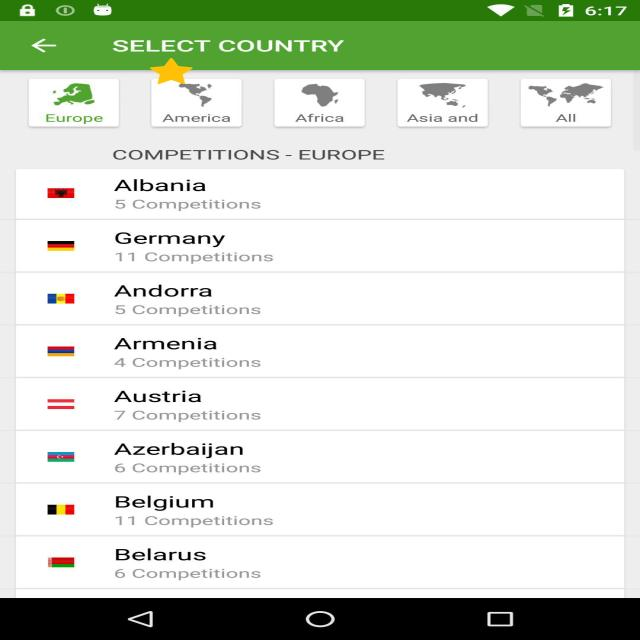forced continuity: (150, 58, 193, 84)
